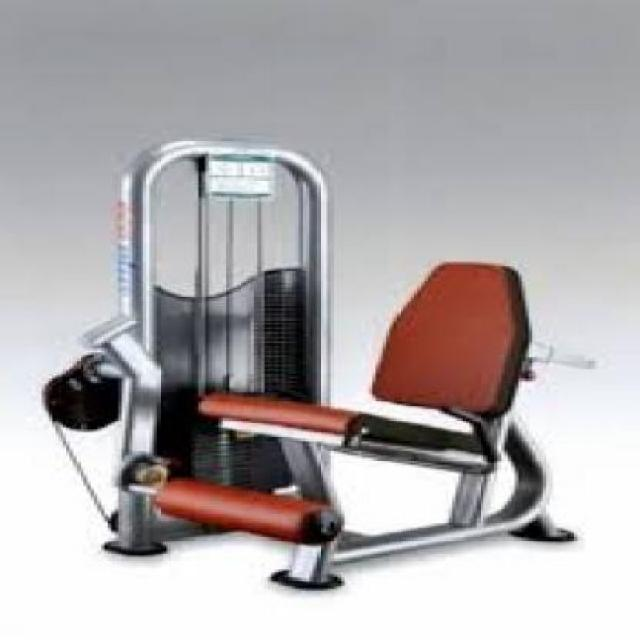leg extension: (31, 128, 611, 610)
